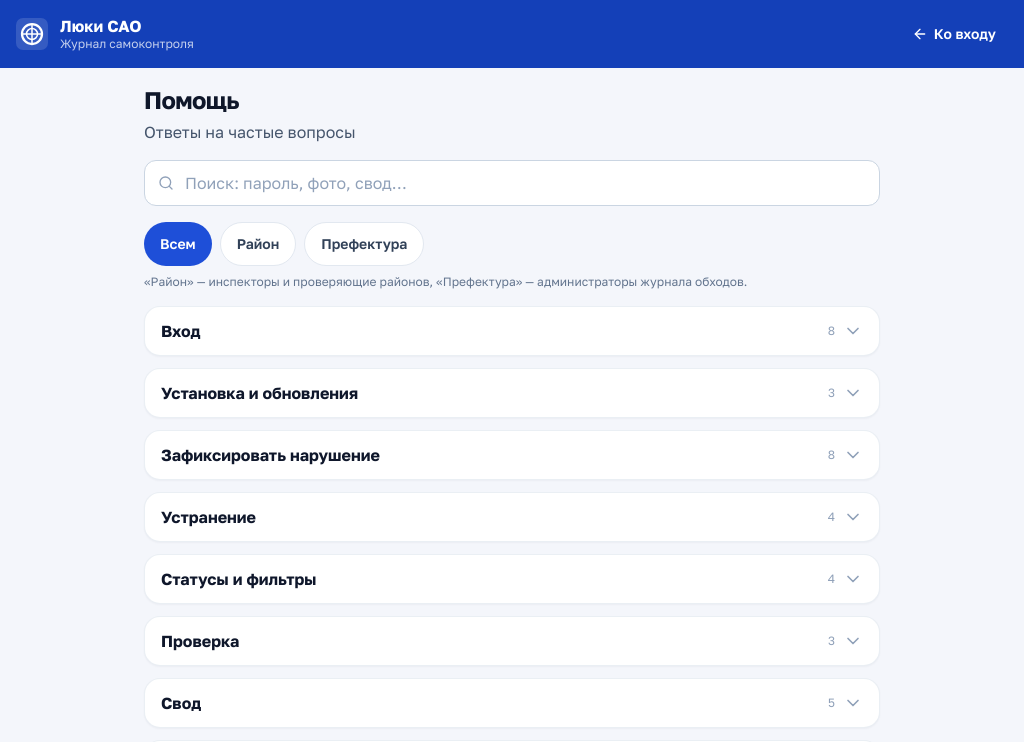
Scenario: HelpPage › поиск раскрывает найденные темы, а без совпадений предлагает поддержку
In the search field named "Поиск по вопросам": (512, 183) [144,160,880,206], type "excel"
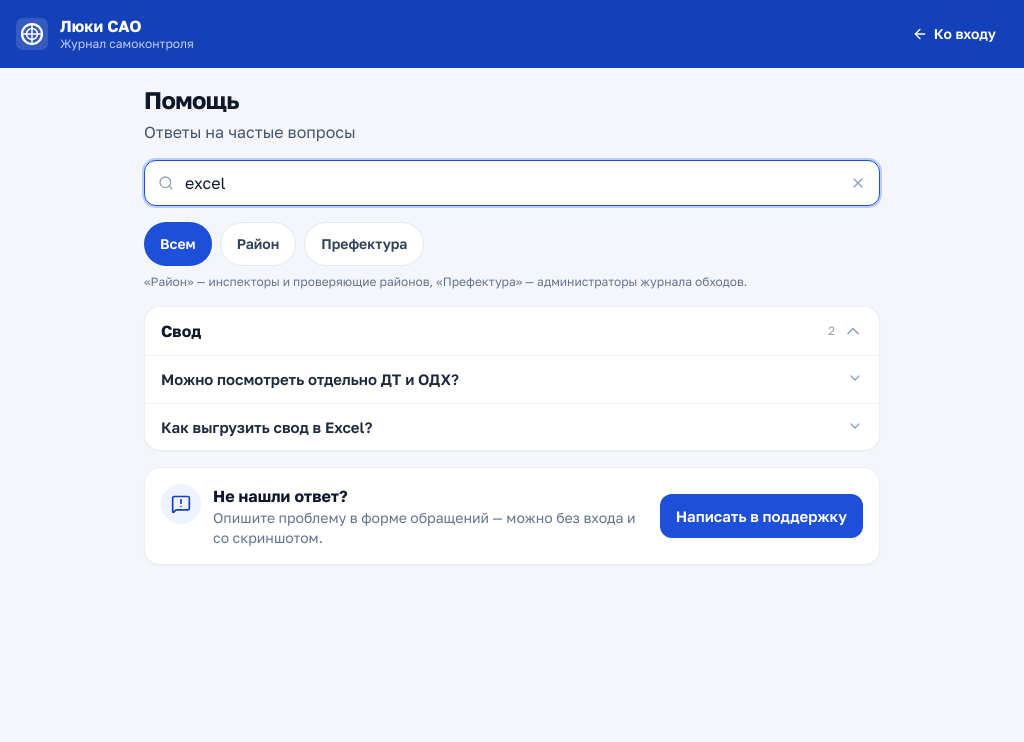
Expected: the button "Как выгрузить свод в Excel?" is shown, [145,404,879,450]
Replace the text in the search field named "Поиск по вопросам" with "абракадабра": (512, 183) [144,160,880,206]
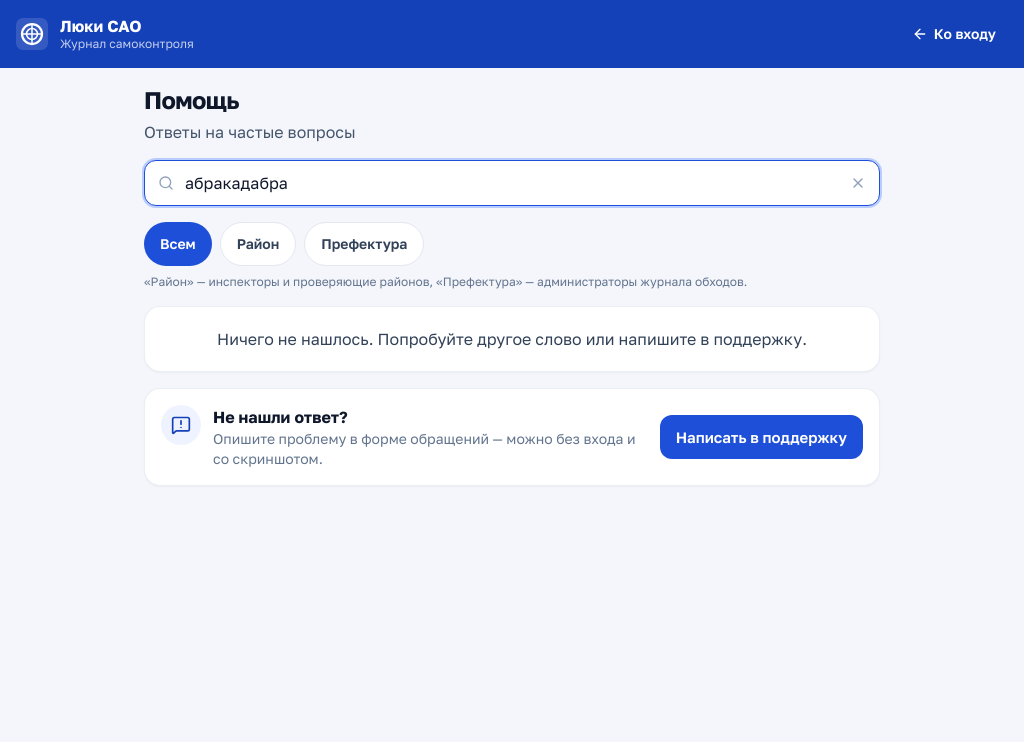
Expected: the message shows "Ничего не нашлось", [217,329,807,349]
